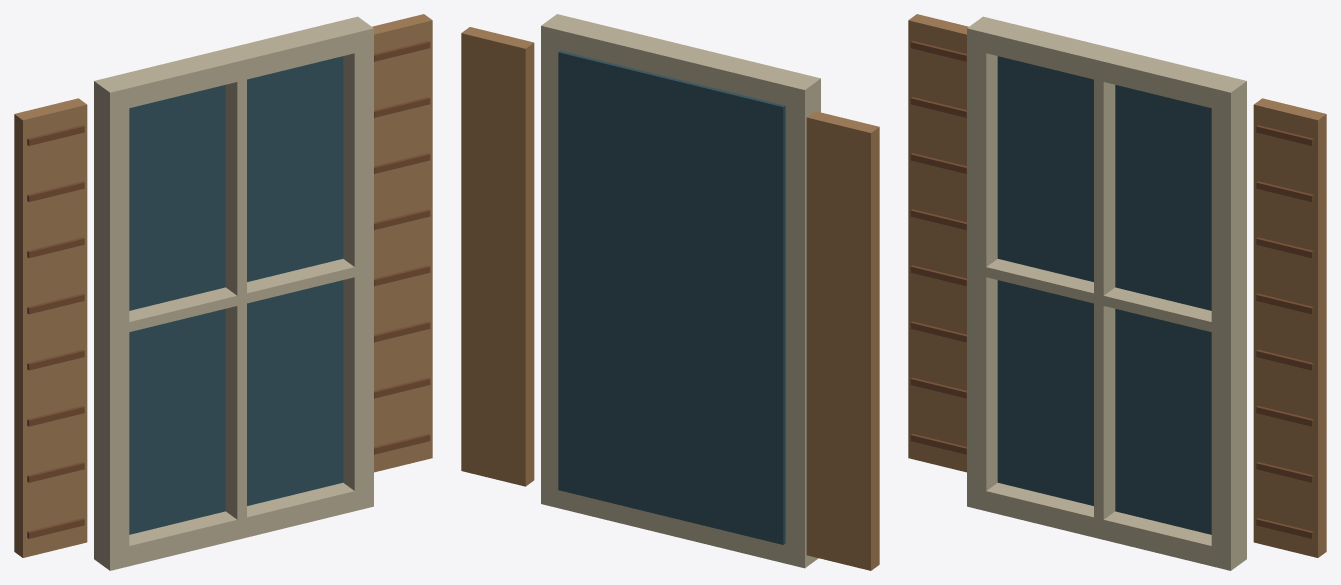
The model's file is window_04.glb.
3 renders of one model, left to right at view 1: azimuth 30°, elevation 25°; view 2: azimuth 150°, elevation 25°; view 3: azimuth 330°, elevation 25°, orthographic.
Visible parts, largest first — view 1: window_04; view 2: window_04; view 3: window_04.
Boxes of the visible parts, x1=… form: window_04: x1=14, y1=14, x2=432, y2=570; window_04: x1=461, y1=14, x2=879, y2=570; window_04: x1=908, y1=14, x2=1326, y2=570.
Size of the model in its own units: 1.91 by 2.13 by 0.185.
